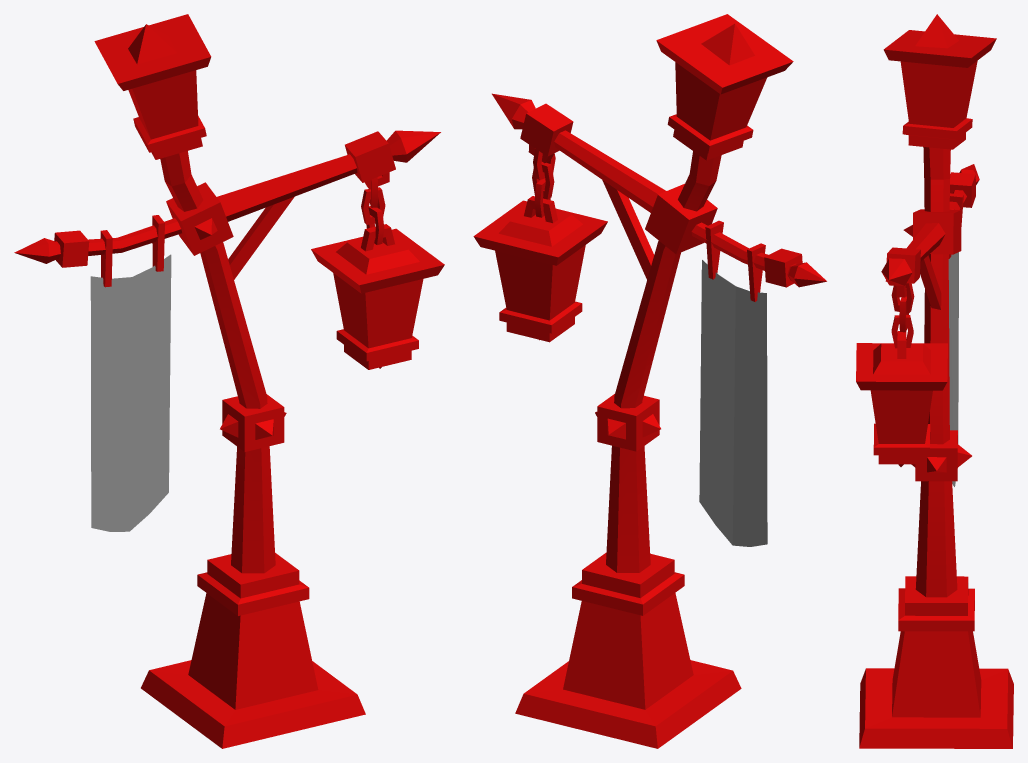
The model's file is SM_LampPost.fbx.
The picture shows the model from 3 angles, left to right: view 1: azimuth 30°, elevation 25°; view 2: azimuth 150°, elevation 25°; view 3: azimuth 270°, elevation 25°; orthographic projection. The views are drawn at different scales.
Parts seen in each view (by area): view 1: polySurface437; view 2: polySurface437; view 3: polySurface437.
Boxes of the visible parts, x1=… form: polySurface437: x1=14, y1=14, x2=444, y2=748; polySurface437: x1=473, y1=14, x2=826, y2=748; polySurface437: x1=856, y1=14, x2=1013, y2=748.
Bounding box in the file's own units: 87.94 × 155 × 33.92.
